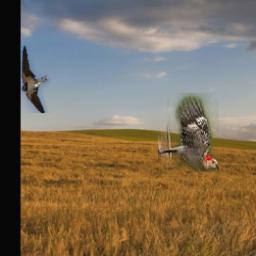Swallow: (21, 45, 58, 113)
Woodpecker: (158, 93, 219, 172)
